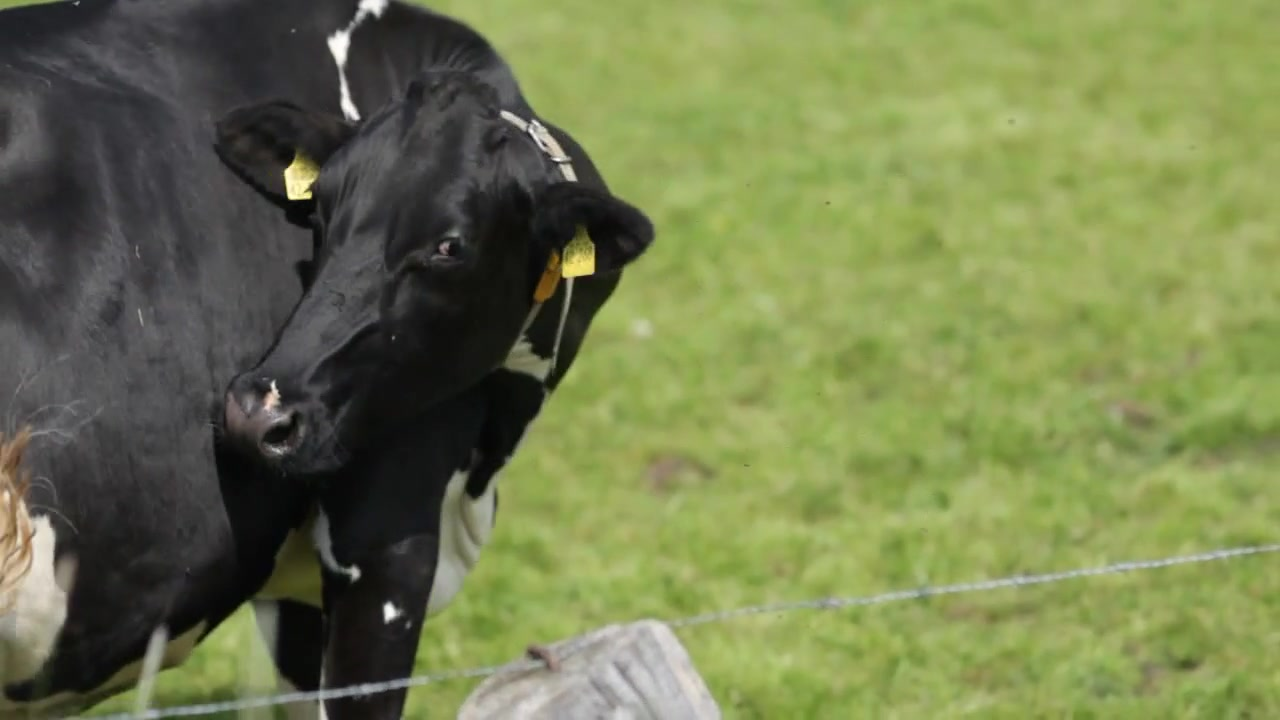cow: (2, 1, 657, 720)
